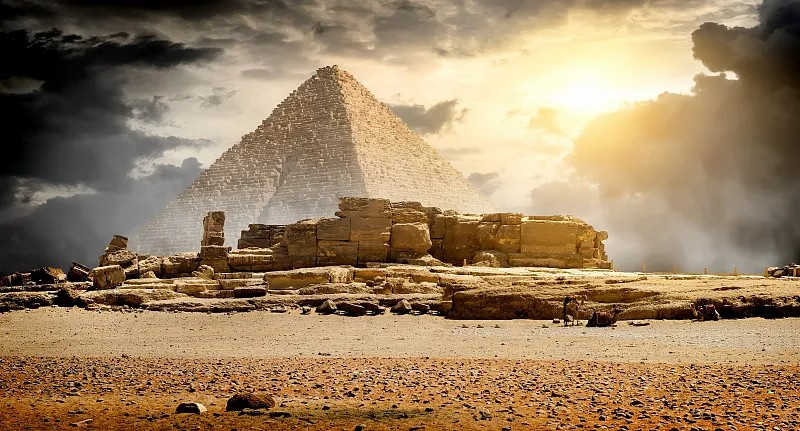Pyramid: (123, 65, 497, 253)
